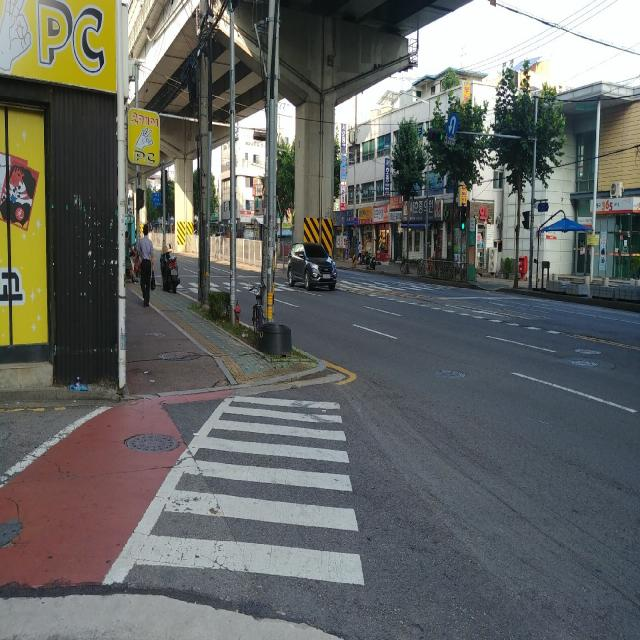횡단보도: (137, 395, 365, 585)
